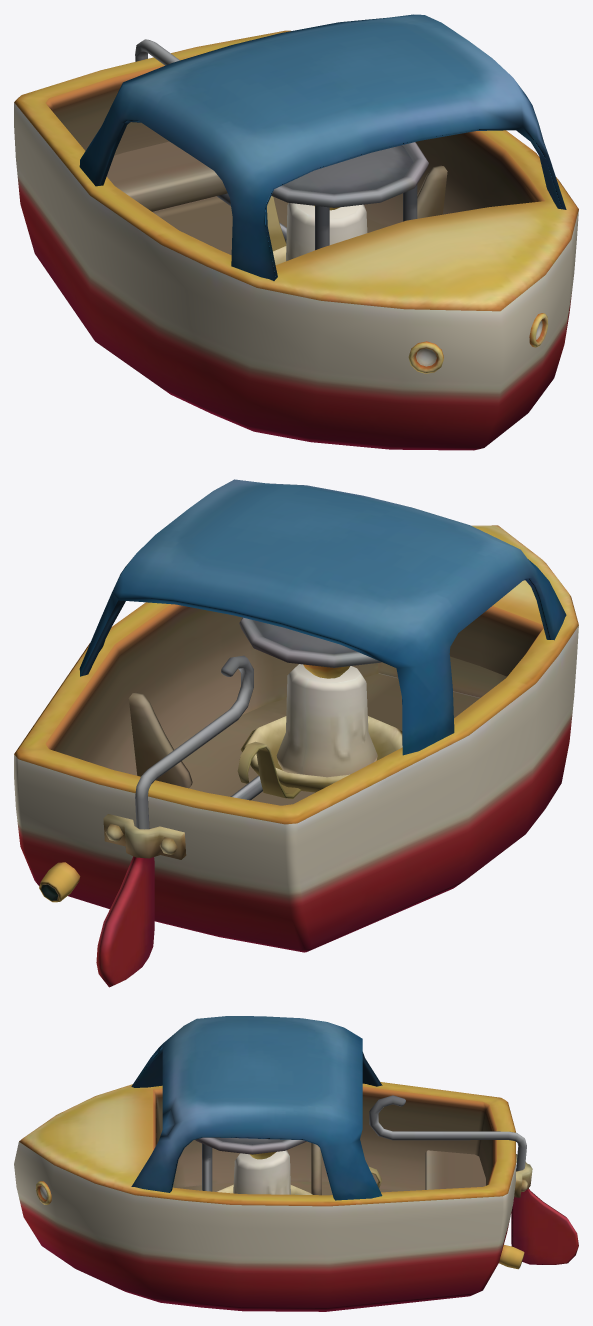
File: ponyoboat.glb
3 views of the same model, one above another, from view 1: azimuth 30°, elevation 25°; view 2: azimuth 150°, elevation 25°; view 3: azimuth 270°, elevation 25° (orthographic). The views are drawn at different scales.
Parts seen in each view (by area): view 1: Ghibli:pPlane46; view 2: Ghibli:pPlane46; view 3: Ghibli:pPlane46.
Boxes of the visible parts, box(x1,y1,x2,y2) form: Ghibli:pPlane46: box(14, 14, 578, 450); Ghibli:pPlane46: box(14, 479, 578, 987); Ghibli:pPlane46: box(14, 1016, 578, 1311).
Size of the model in its own units: 0.1874 by 0.1403 by 0.3446.
Materials: 1 (1 with a texture image).
